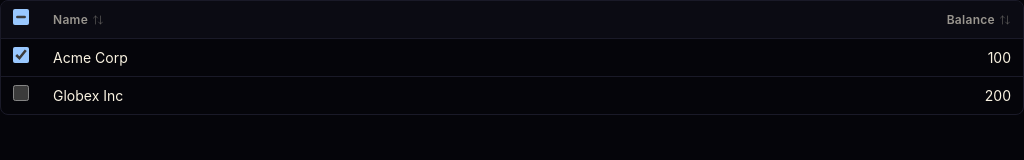
DataTable › the header checkbox selects/deselects all rows, and is indeterminate when only some are selected
The image size is (1024, 160).
Click the checkbox named "Select all rows" at (21, 17), box left=13, top=9, right=29, bottom=25
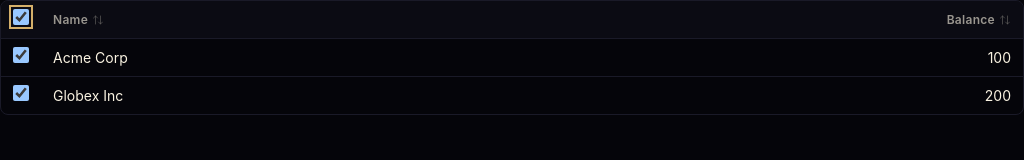
Check: the checkbox named "Select row 1" is checked, box left=13, top=47, right=29, bottom=63
Check: the checkbox named "Select row 2" is checked, box left=13, top=85, right=29, bottom=101
Click the checkbox named "Select all rows" at (21, 17), box left=13, top=9, right=29, bottom=25
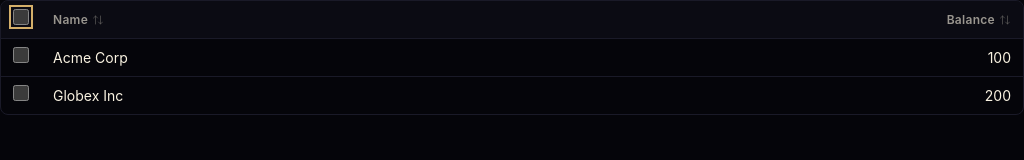
Check: the checkbox named "Select row 1" is not checked, box left=13, top=47, right=29, bottom=63
Check: the checkbox named "Select row 2" is not checked, box left=13, top=85, right=29, bottom=101
